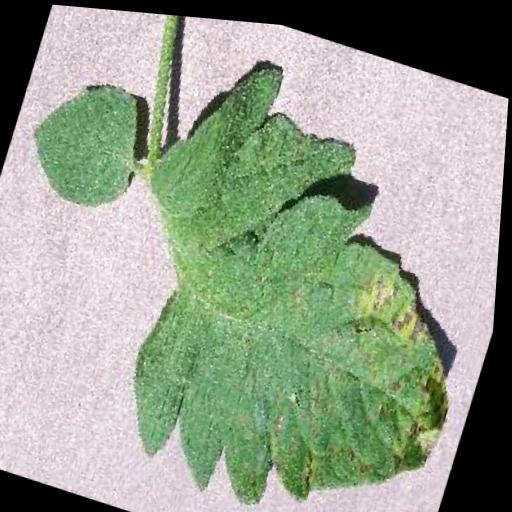Healthy: (20, 60, 159, 214)
Septoria: (77, 28, 511, 512)
